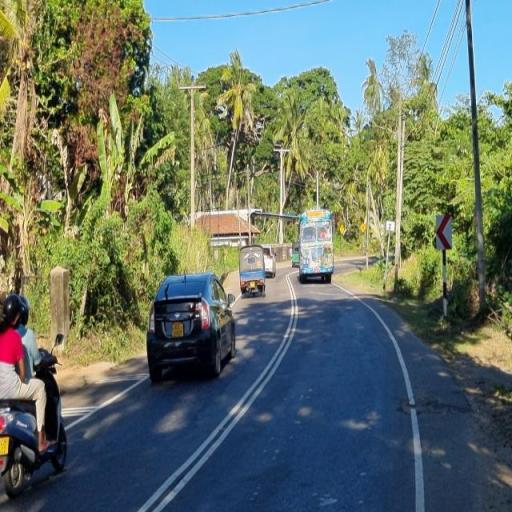double_white_line: (138, 270, 302, 510)
